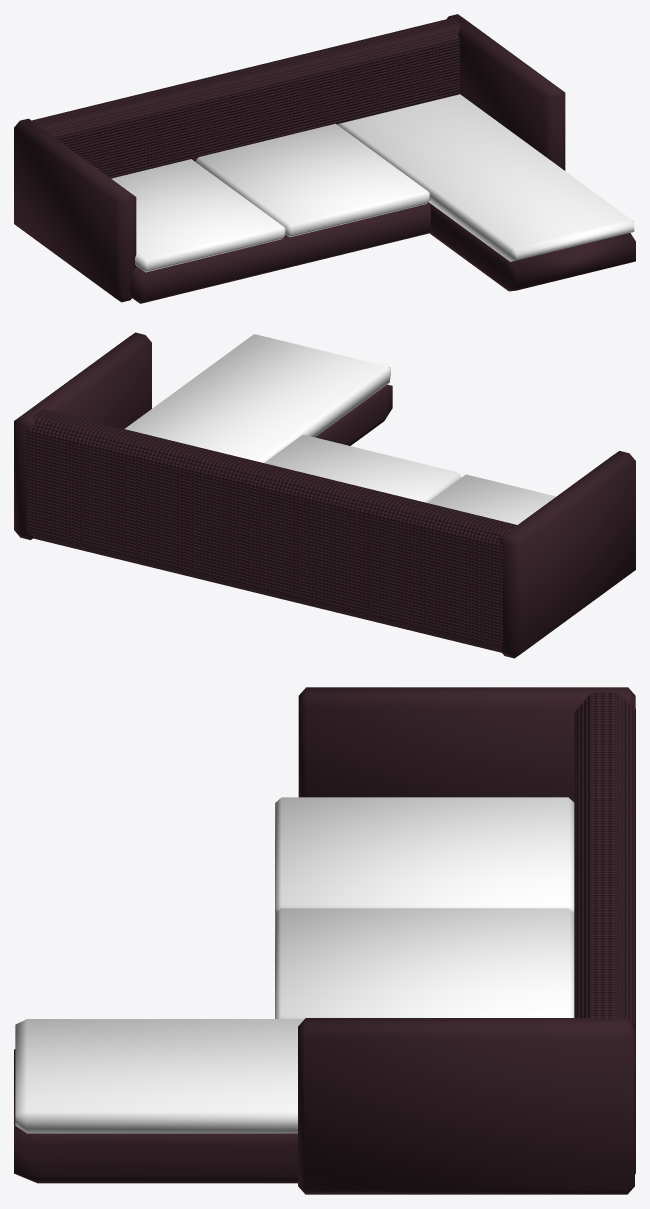
The picture shows the model from 3 angles, top to bottom: view 1: azimuth 30°, elevation 25°; view 2: azimuth 150°, elevation 25°; view 3: azimuth 270°, elevation 25°; orthographic projection. The views are drawn at different scales.
Parts seen in each view (by area): view 1: Cube.003, Cube.008, Cube.007, Cube.004, Cube.006, Cube.001, Cube, Cube.002; view 2: Cube.003, Cube.008, Cube.004, Cube, Cube.007, Cube.006, Cube.002; view 3: Cube, Cube.006, Cube.007, Cube.008, Cube.004, Cube.003, Cube.002.
Boxes of the visible parts, box(x1,y1,x2,y2) form: Cube.003: box(30, 18, 460, 178); Cube.008: box(338, 94, 634, 261); Cube.007: box(195, 123, 429, 237); Cube.004: box(14, 118, 136, 302); Cube.006: box(111, 159, 285, 272); Cube.001: box(130, 202, 430, 303); Cube: box(446, 14, 565, 170); Cube.002: box(429, 203, 635, 291); Cube.003: box(26, 409, 518, 652); Cube.008: box(125, 334, 390, 462); Cube.004: box(499, 451, 635, 658); Cube: box(14, 332, 151, 539); Cube.007: box(264, 434, 461, 502); Cube.006: box(427, 474, 556, 524); Cube.002: box(315, 384, 392, 445); Cube: box(298, 1018, 634, 1194); Cube.006: box(275, 797, 574, 913); Cube.007: box(275, 908, 574, 1018); Cube.008: box(15, 1019, 304, 1133); Cube.004: box(298, 687, 635, 802); Cube.003: box(574, 693, 635, 1174); Cube.002: box(14, 1049, 297, 1183).
Size of the model in its own units: 2.19 by 0.5044 by 1.66.
